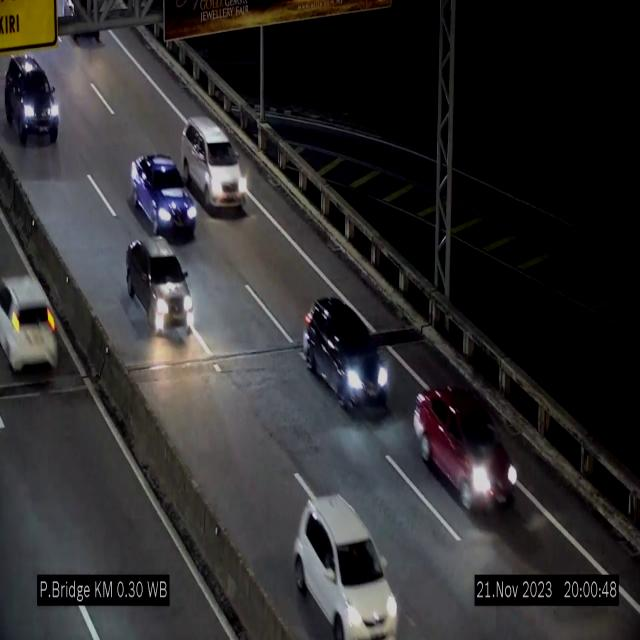Car: (294, 494, 398, 640), (412, 383, 518, 521), (303, 293, 391, 415), (0, 241, 72, 390), (126, 236, 194, 342), (180, 118, 246, 211), (4, 51, 64, 149), (131, 154, 197, 239)
